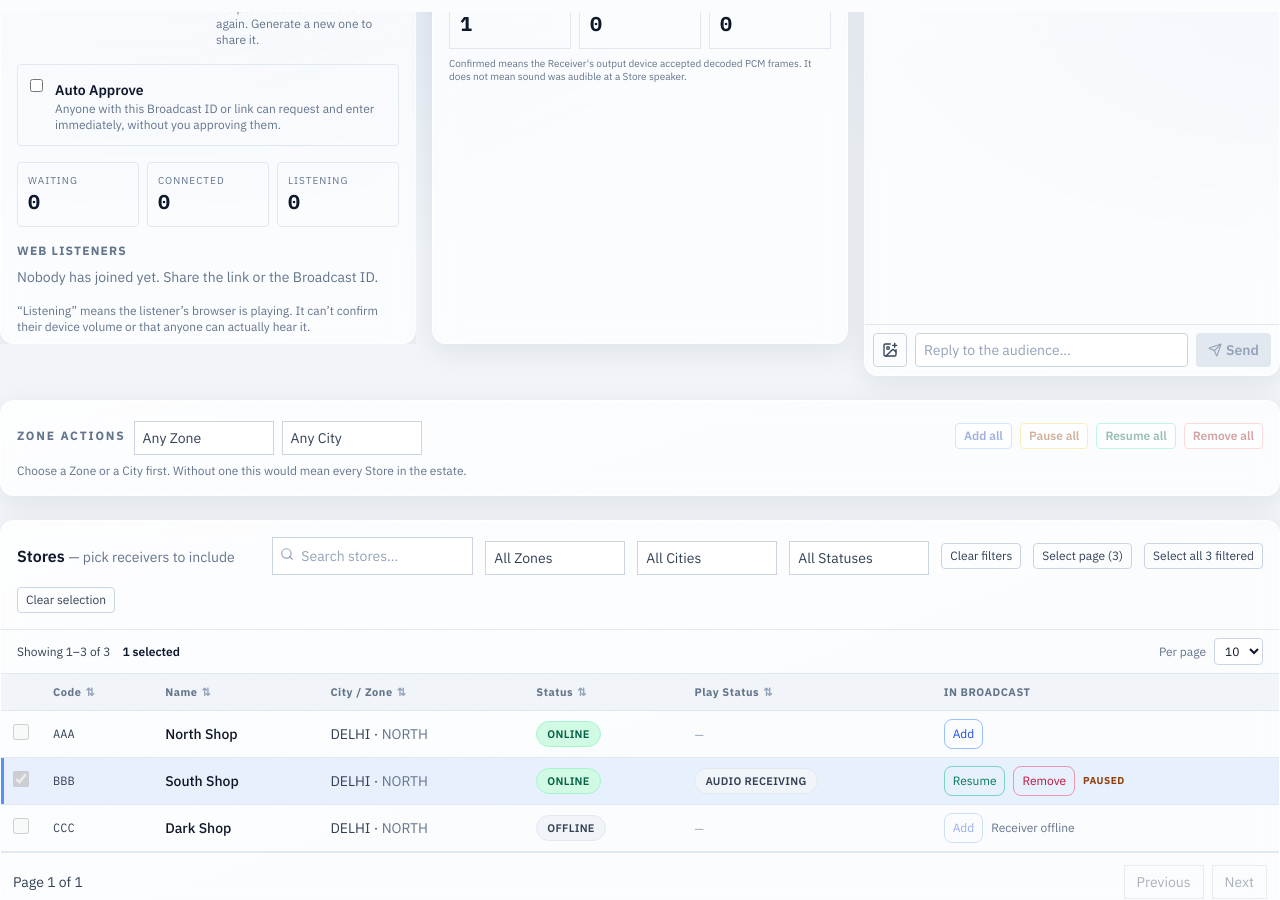
Scenario: a refusal to resume is reported on the row
The image size is (1280, 900).
(page scrolled)
Click the button with test id "resume-store-BBB" at point(975, 781), box top-left (944, 766), bottom-right (1006, 796)
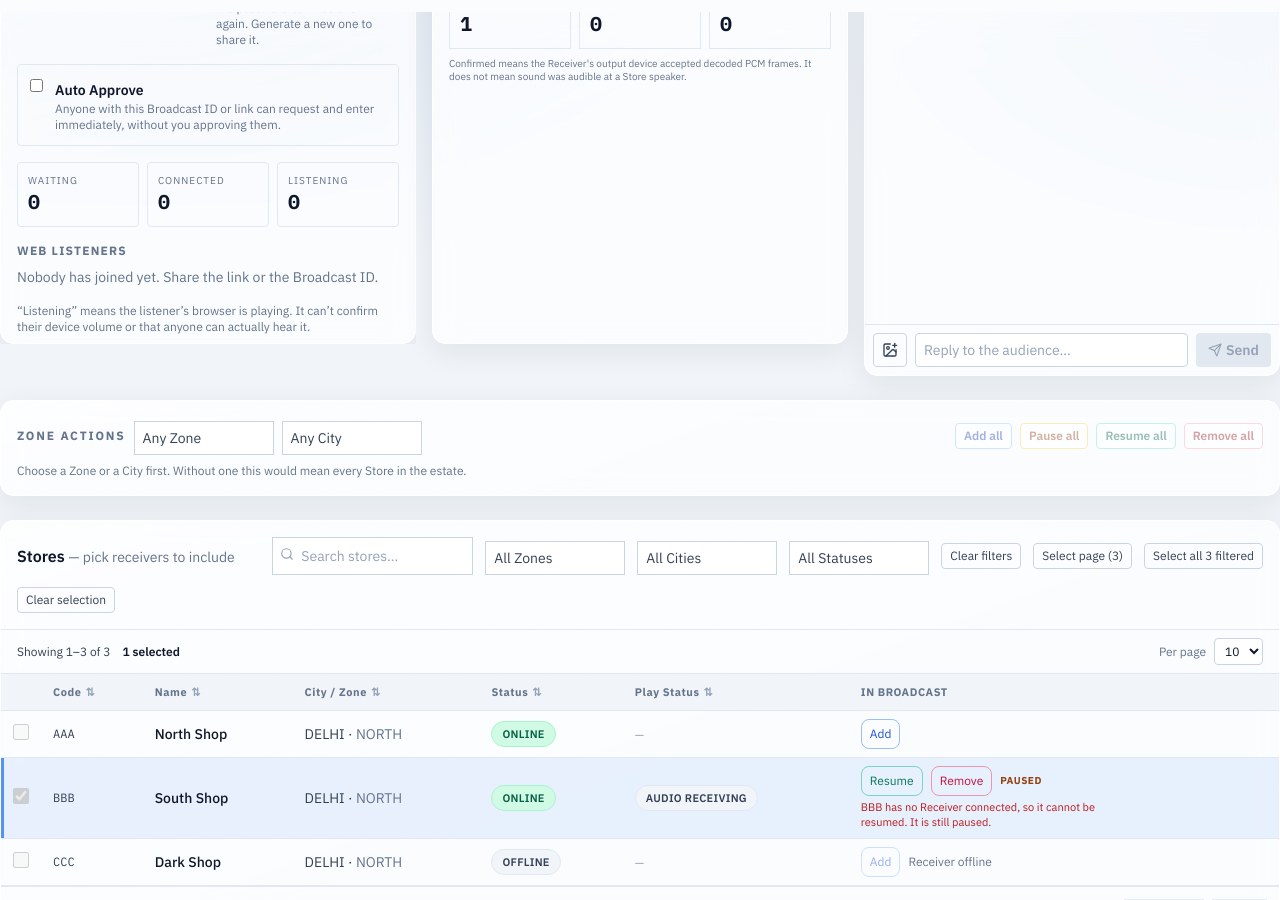
expect the message with test id "target-error-BBB" shows "still paused": met, box top-left (861, 800), bottom-right (1095, 829)
